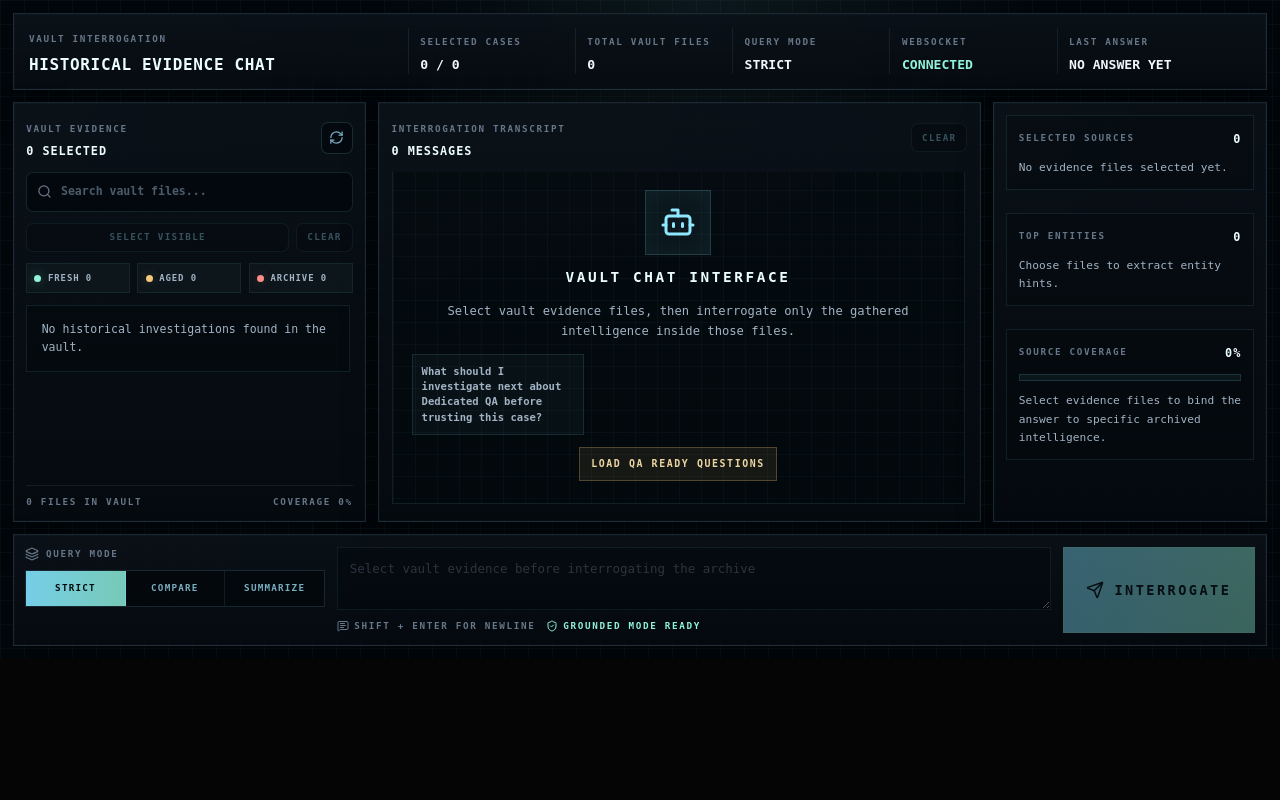
Test case: VaultChatbot › loads QA ready questions only on the QA investigation without backend messages
This screenshot has width=1280, height=800.
Click the button "Load QA Ready Questions" at x=678, y=464, box [579,447,777,481]
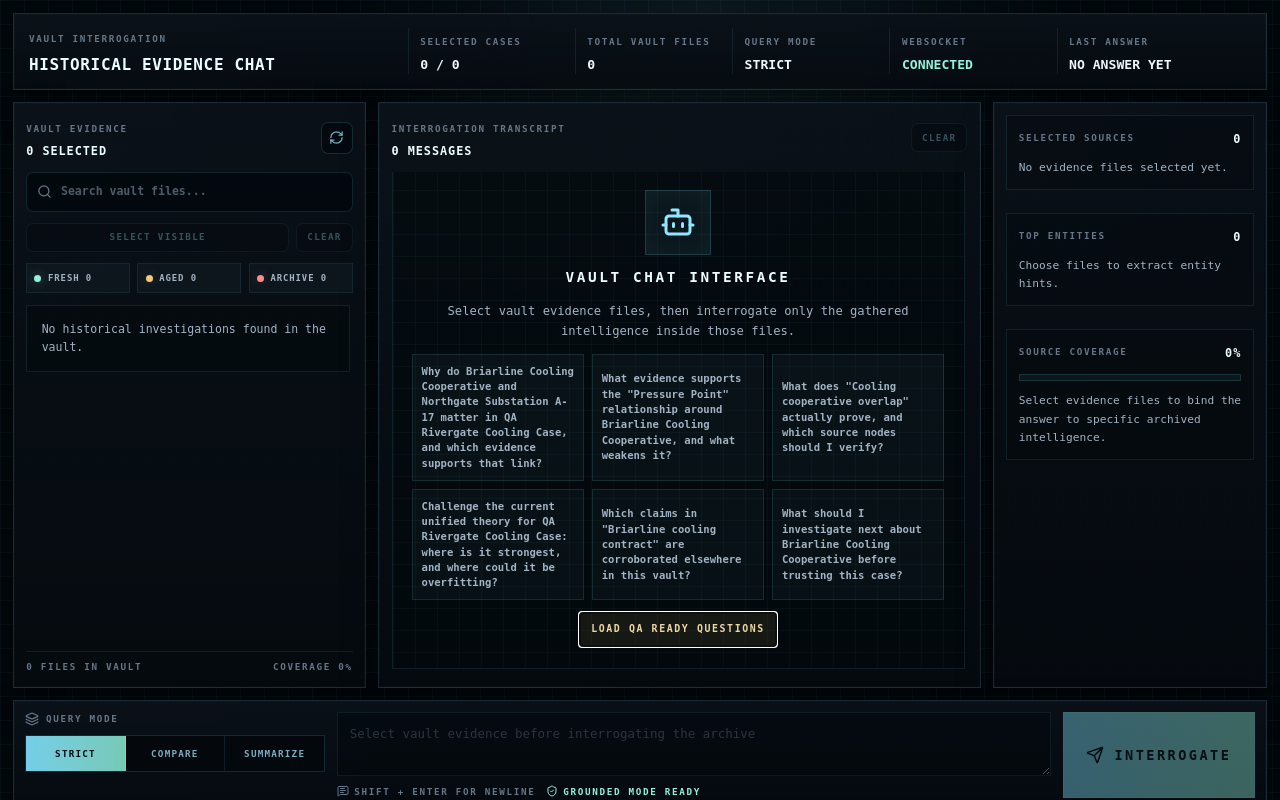
expect the button "Northgate Substation A-17" is shown: met, box [412,354,584,481]
